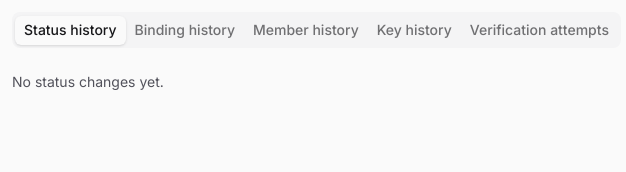
Test: LicenceHistory › loads the binding history when its tab is clicked
The width and height of the screenshot is (626, 172).
Click the tab "Binding history": (185, 30) x1=126 y1=16 x2=244 y2=44
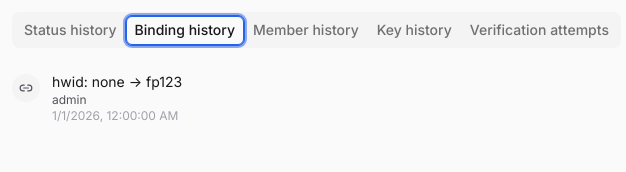
Now the text "hwid: none -> fp123" is shown, box x1=52 y1=73 x2=182 y2=90
